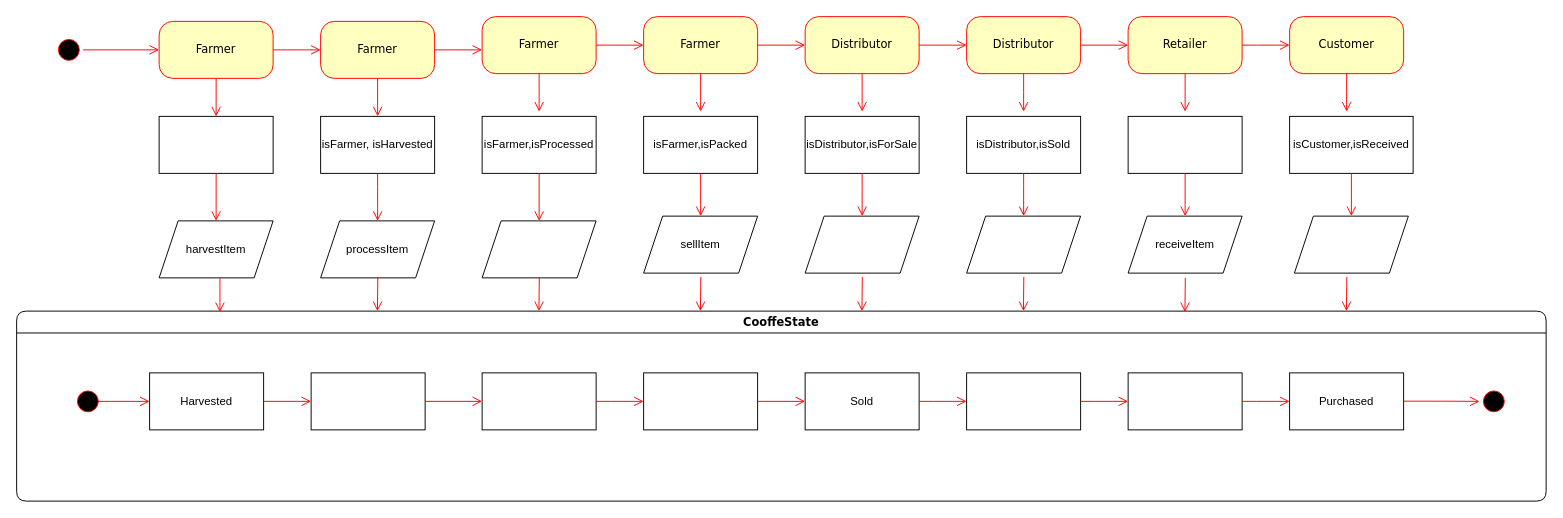
Some shapes in this 1563 by 518 pixel diagram are drawn without their labels. The shapes that lost their labels are listed below. From the top down, each one's centre as x and y in pixels, then its label:
At pixel 215 144: "isFarmer".
At pixel 1184 144: "isRetailer,isShipped".
At pixel 538 249: "packItem".
At pixel 861 244: "buyItem".
At pixel 1023 244: "shipItem".
At pixel 1350 244: "purchaseItem".
At pixel 367 401: "Processed".
At pixel 538 401: "Packed".
At pixel 700 401: "ForSale".
At pixel 1023 401: "Shipped".
At pixel 1184 401: "Received".
